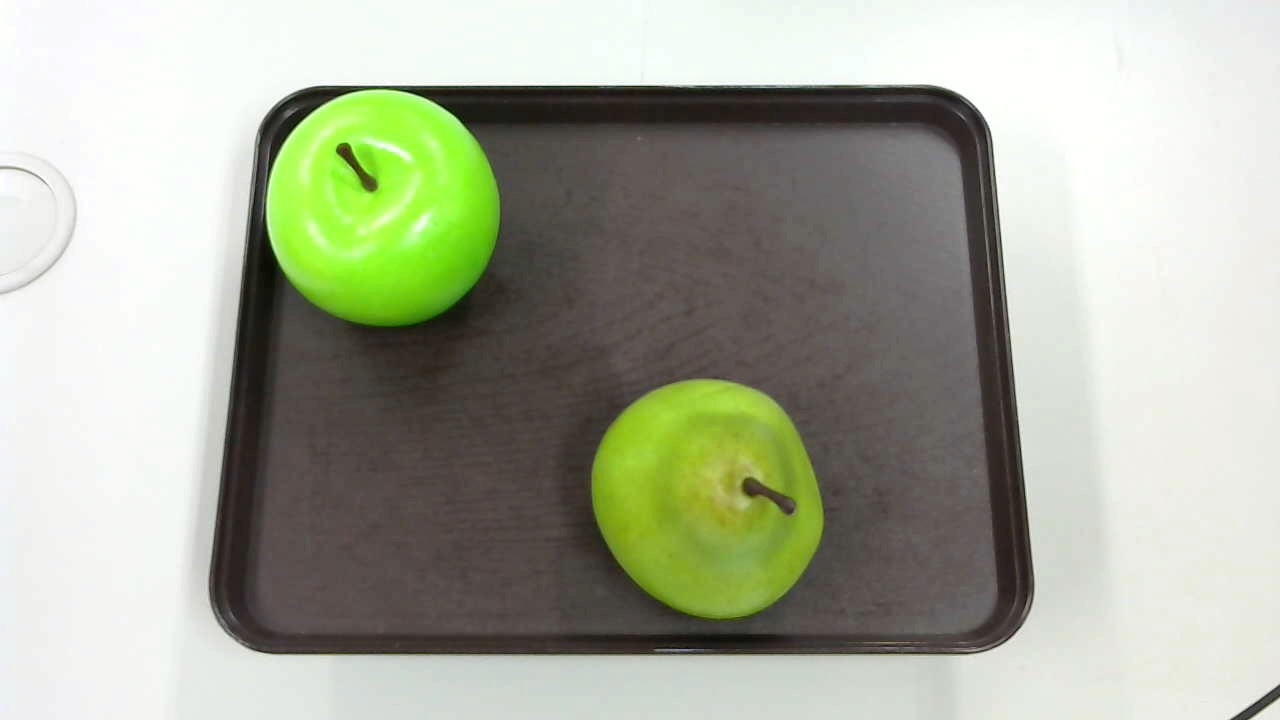green apple: (263, 90, 502, 328)
green pear: (589, 374, 828, 625)
